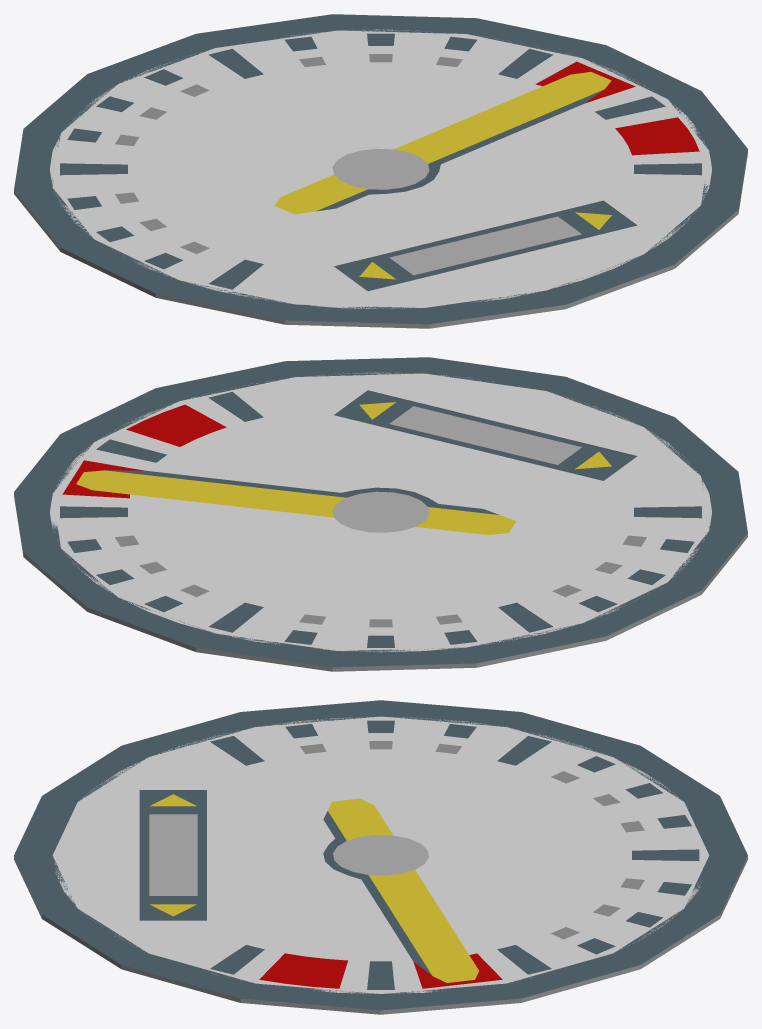
3 views of the same model, one above another, from view 1: azimuth 30°, elevation 25°; view 2: azimuth 150°, elevation 25°; view 3: azimuth 270°, elevation 25° (orthographic).
Parts seen in each view (by area): view 1: world; view 2: world; view 3: world.
Boxes of the visible parts, x1,y1,x2,y2 form: world: (14,14,747,328); world: (14,357,747,671); world: (14,700,747,1014).
Bounding box in the file's own units: 0.0152 × 0.0001 × 0.0152.
